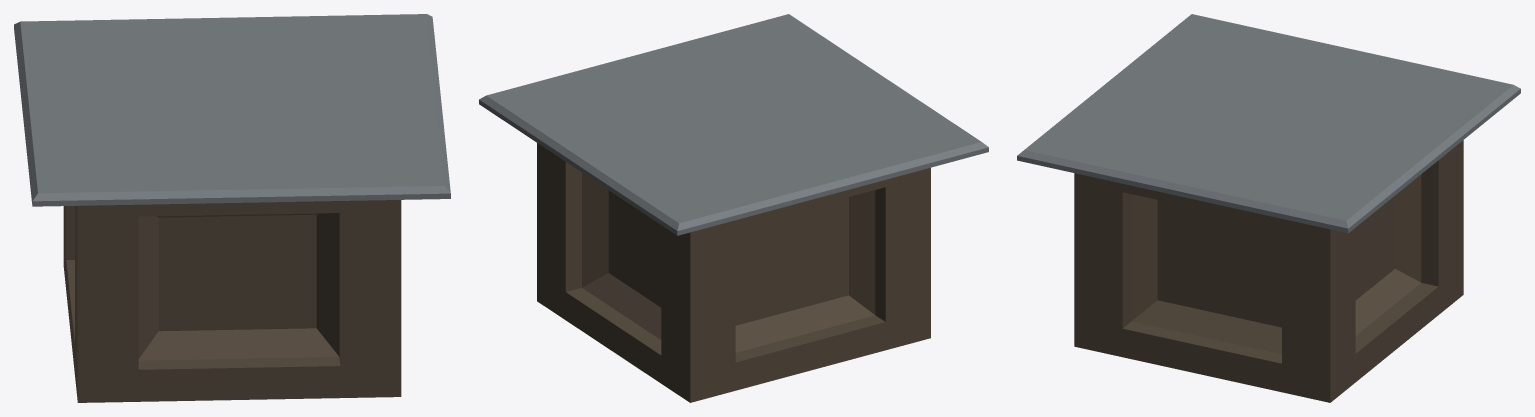
The model's file is TEMP_Table_1.fbx.
The picture shows the model from 3 angles, left to right: view 1: azimuth 30°, elevation 25°; view 2: azimuth 150°, elevation 25°; view 3: azimuth 270°, elevation 25°; orthographic projection. The views are drawn at different scales.
Visible parts, largest first — view 1: Table_1; view 2: Table_1; view 3: Table_1.
Part boxes in pixels (x1=…): Table_1: x1=14, y1=14, x2=450, y2=402; Table_1: x1=479, y1=14, x2=988, y2=402; Table_1: x1=1017, y1=14, x2=1520, y2=402.
Size of the model in its own units: 11.18 by 4.98 by 11.18.
